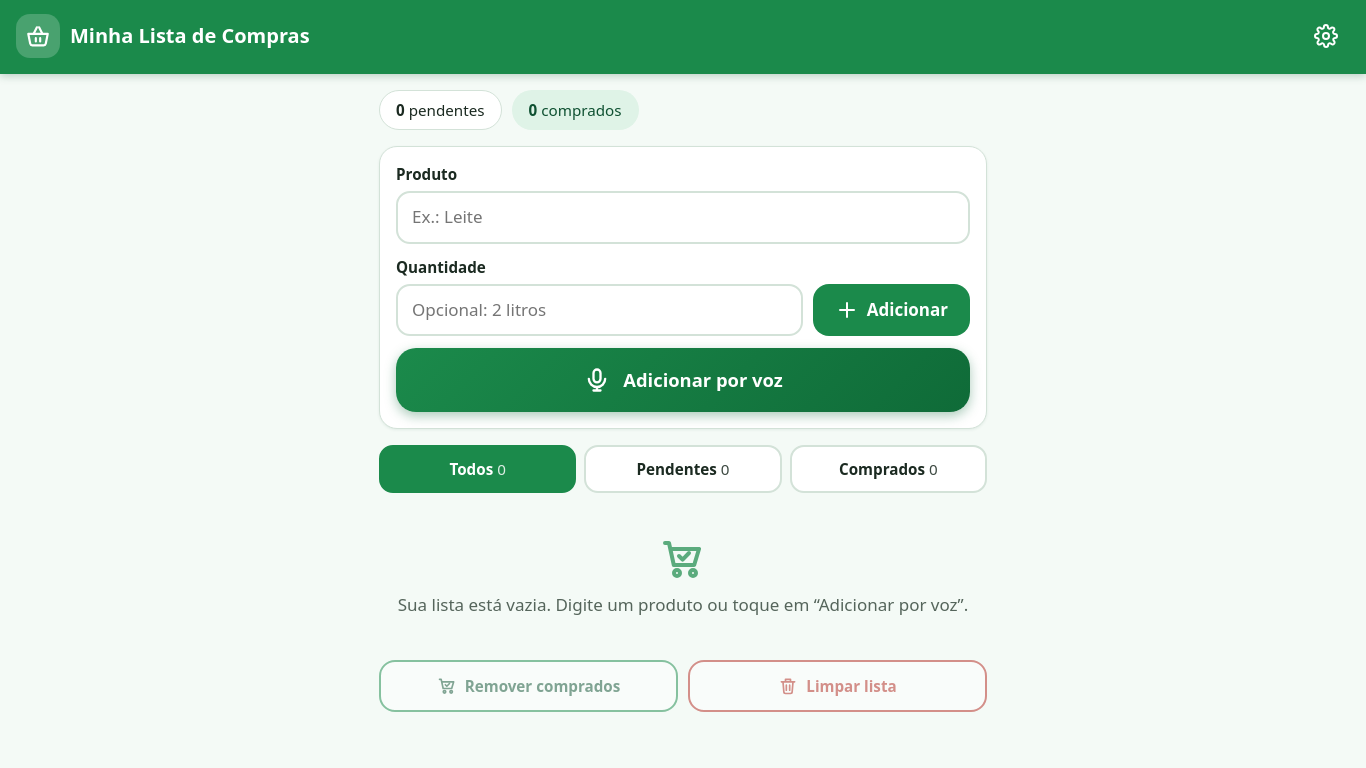
Lista de compras › impede a inclusão de produto sem nome
Expected: the element named "Filtrar itens" is shown, [379,445,987,493]
Click the button "Adicionar".
click(891, 310)  # box [813,284,970,336]
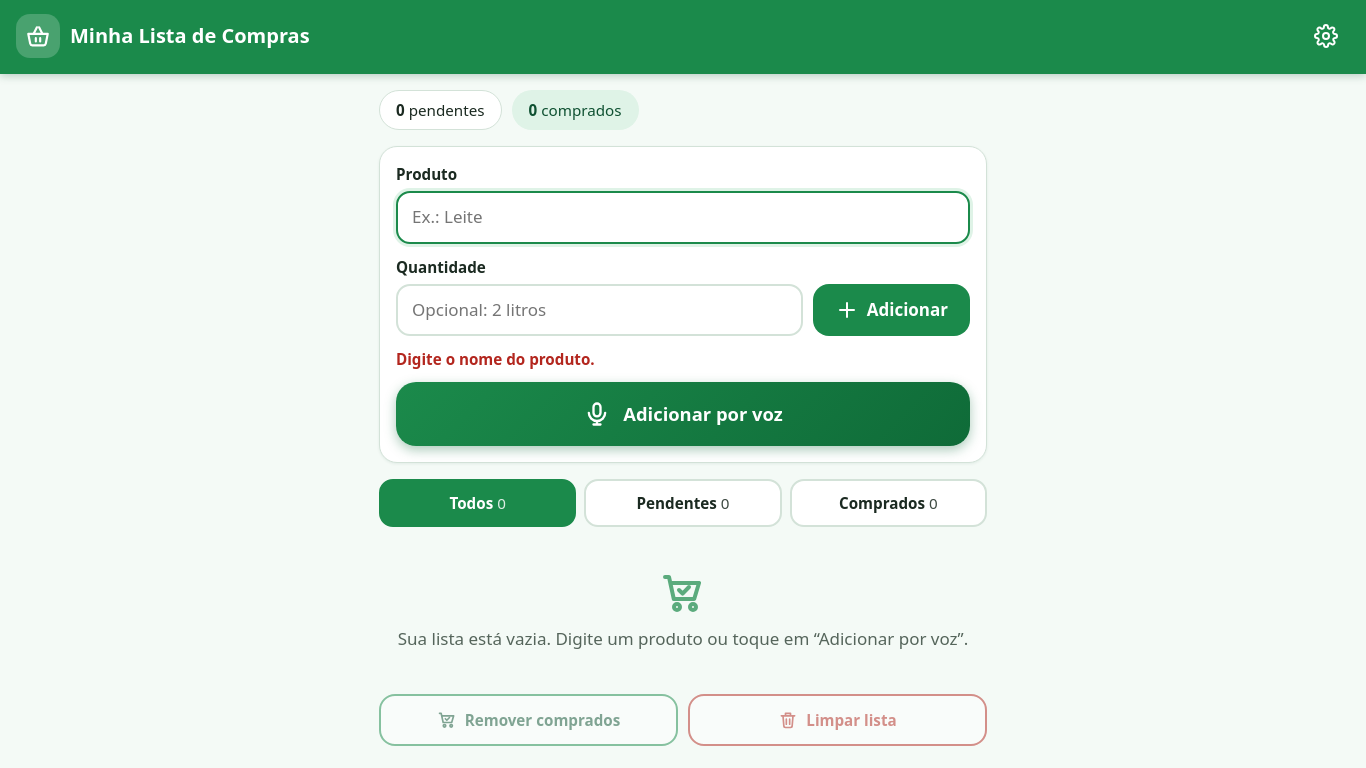
Now the text "Digite o nome do produto." is shown, box [396,349,595,369]
